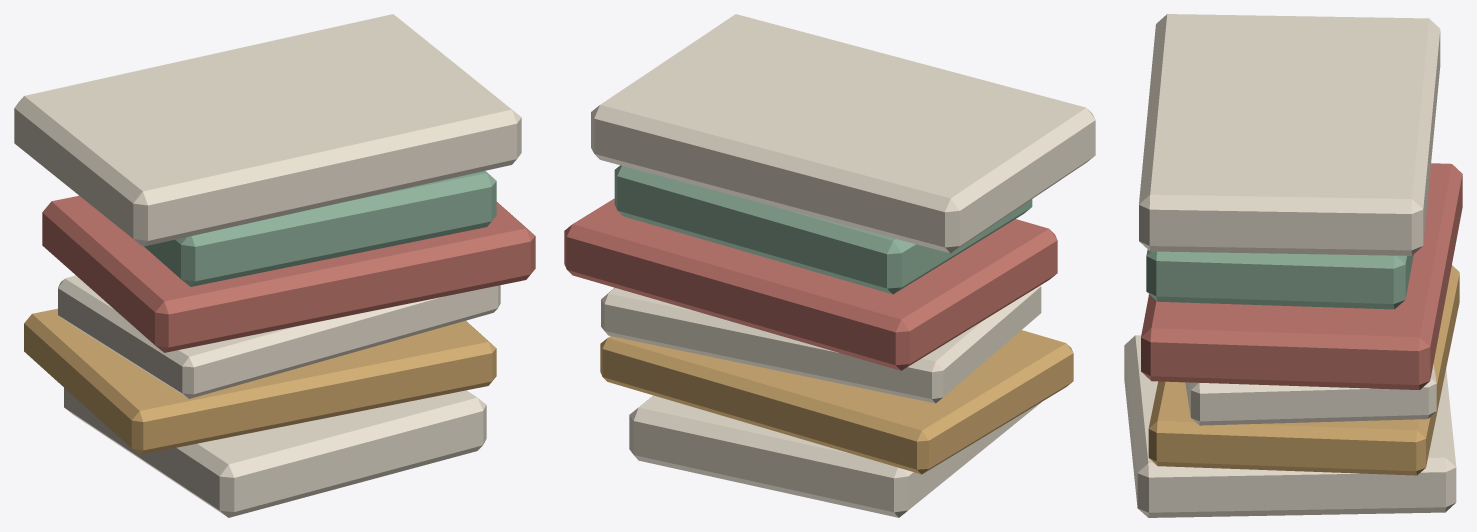
The model's file is fill_textiles.glb.
3 views of the same model, side by side, from view 1: azimuth 30°, elevation 25°; view 2: azimuth 150°, elevation 25°; view 3: azimuth 270°, elevation 25° (orthographic). The views are drawn at different scales.
Parts seen in each view (by area): view 1: fill_textiles_006_fold_5, fill_textiles_004_fold_3, fill_textiles_002_fold_1, fill_textiles_001_fold_0, fill_textiles_005_fold_4, fill_textiles_003_fold_2; view 2: fill_textiles_006_fold_5, fill_textiles_004_fold_3, fill_textiles_002_fold_1, fill_textiles_001_fold_0, fill_textiles_005_fold_4, fill_textiles_003_fold_2; view 3: fill_textiles_006_fold_5, fill_textiles_004_fold_3, fill_textiles_001_fold_0, fill_textiles_002_fold_1, fill_textiles_005_fold_4, fill_textiles_003_fold_2.
Part boxes in pixels (left/top/right/bottom): fill_textiles_006_fold_5: left=14, top=14, right=521, bottom=246; fill_textiles_004_fold_3: left=42, top=195, right=535, bottom=352; fill_textiles_002_fold_1: left=24, top=308, right=496, bottom=454; fill_textiles_001_fold_0: left=64, top=388, right=486, bottom=517; fill_textiles_005_fold_4: left=144, top=171, right=496, bottom=286; fill_textiles_003_fold_2: left=58, top=275, right=500, bottom=398; fill_textiles_006_fold_5: left=591, top=14, right=1095, bottom=253; fill_textiles_004_fold_3: left=564, top=198, right=1057, bottom=370; fill_textiles_002_fold_1: left=600, top=330, right=1073, bottom=474; fill_textiles_001_fold_0: left=629, top=395, right=1041, bottom=517; fill_textiles_005_fold_4: left=614, top=165, right=1032, bottom=294; fill_textiles_003_fold_2: left=601, top=285, right=1041, bottom=403; fill_textiles_006_fold_5: left=1139, top=14, right=1440, bottom=255; fill_textiles_004_fold_3: left=1141, top=163, right=1462, bottom=389; fill_textiles_001_fold_0: left=1124, top=335, right=1456, bottom=517; fill_textiles_002_fold_1: left=1148, top=265, right=1459, bottom=475; fill_textiles_005_fold_4: left=1146, top=249, right=1413, bottom=309; fill_textiles_003_fold_2: left=1185, top=364, right=1436, bottom=425.
Size of the model in its own units: 0.4959 by 0.3824 by 0.3436.
